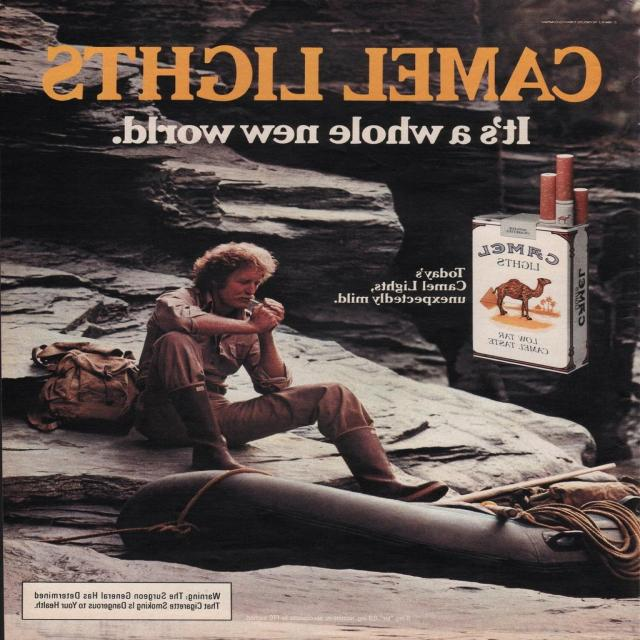smoking: (182, 230, 302, 351)
